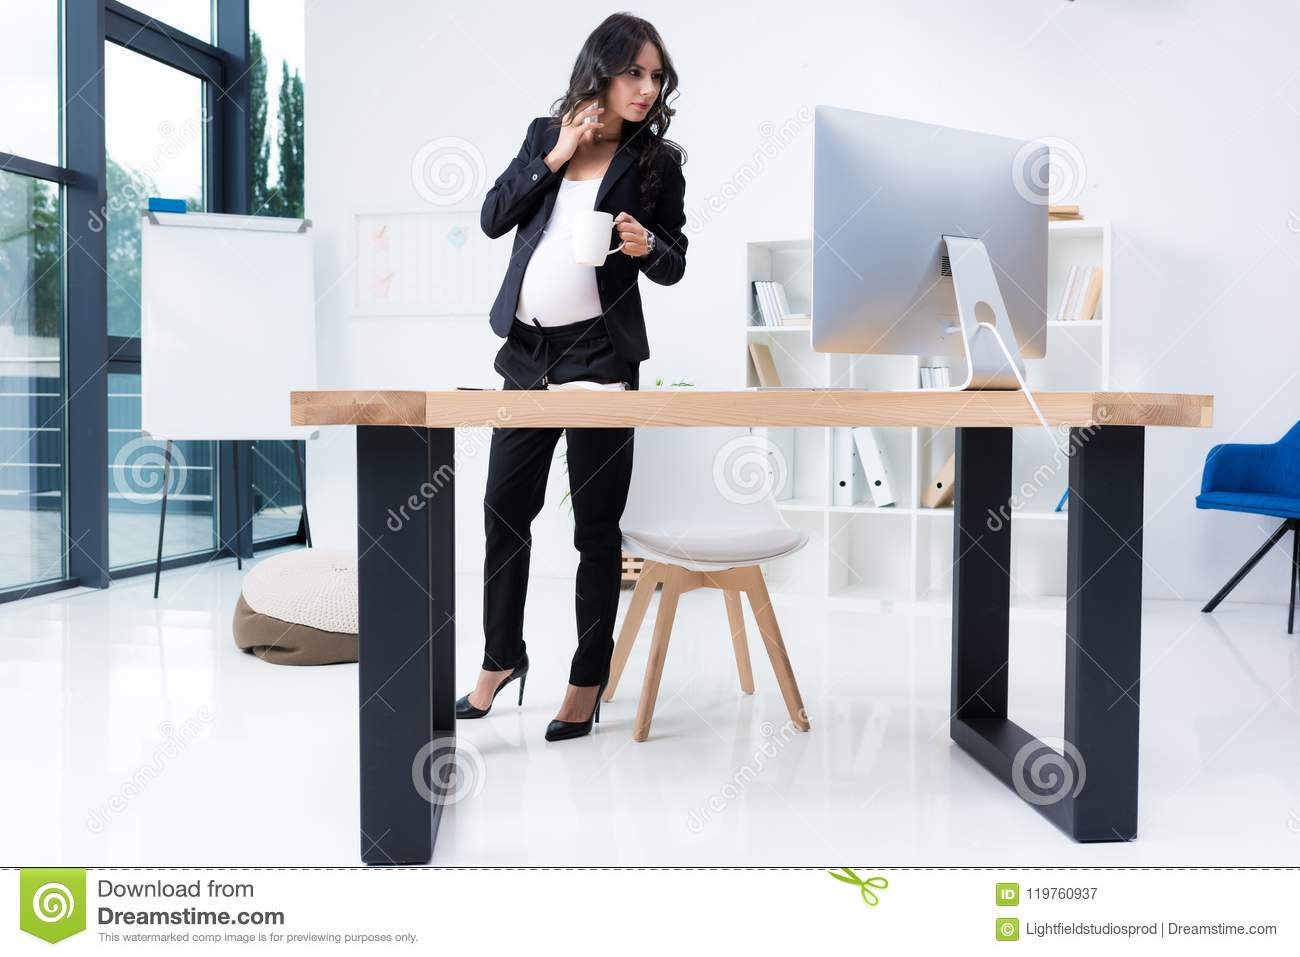talk: (559, 58, 665, 154)
